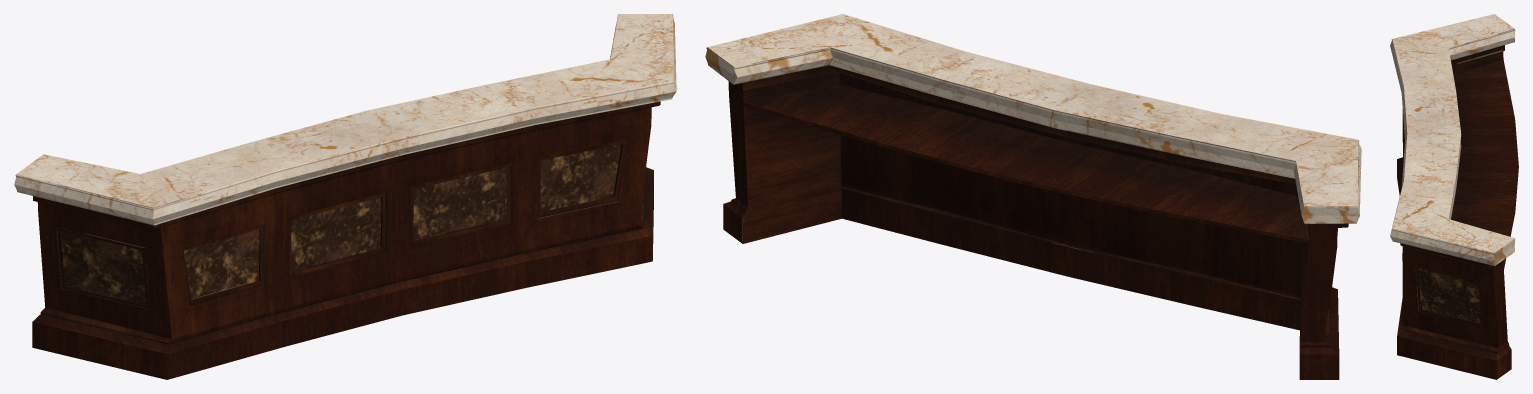
The model's file is TableReception01.fbx.
The picture shows the model from 3 angles, left to right: view 1: azimuth 30°, elevation 25°; view 2: azimuth 150°, elevation 25°; view 3: azimuth 270°, elevation 25°; orthographic projection. The views are drawn at different scales.
Parts seen in each view (by area): view 1: Table reception small; view 2: Table reception small; view 3: Table reception small.
Boxes of the visible parts, bbox=[...] form: Table reception small: bbox=[14, 14, 676, 379]; Table reception small: bbox=[705, 14, 1361, 379]; Table reception small: bbox=[1390, 14, 1518, 379].
Size of the model in its own units: 5.04 by 1.3 by 1.14.
